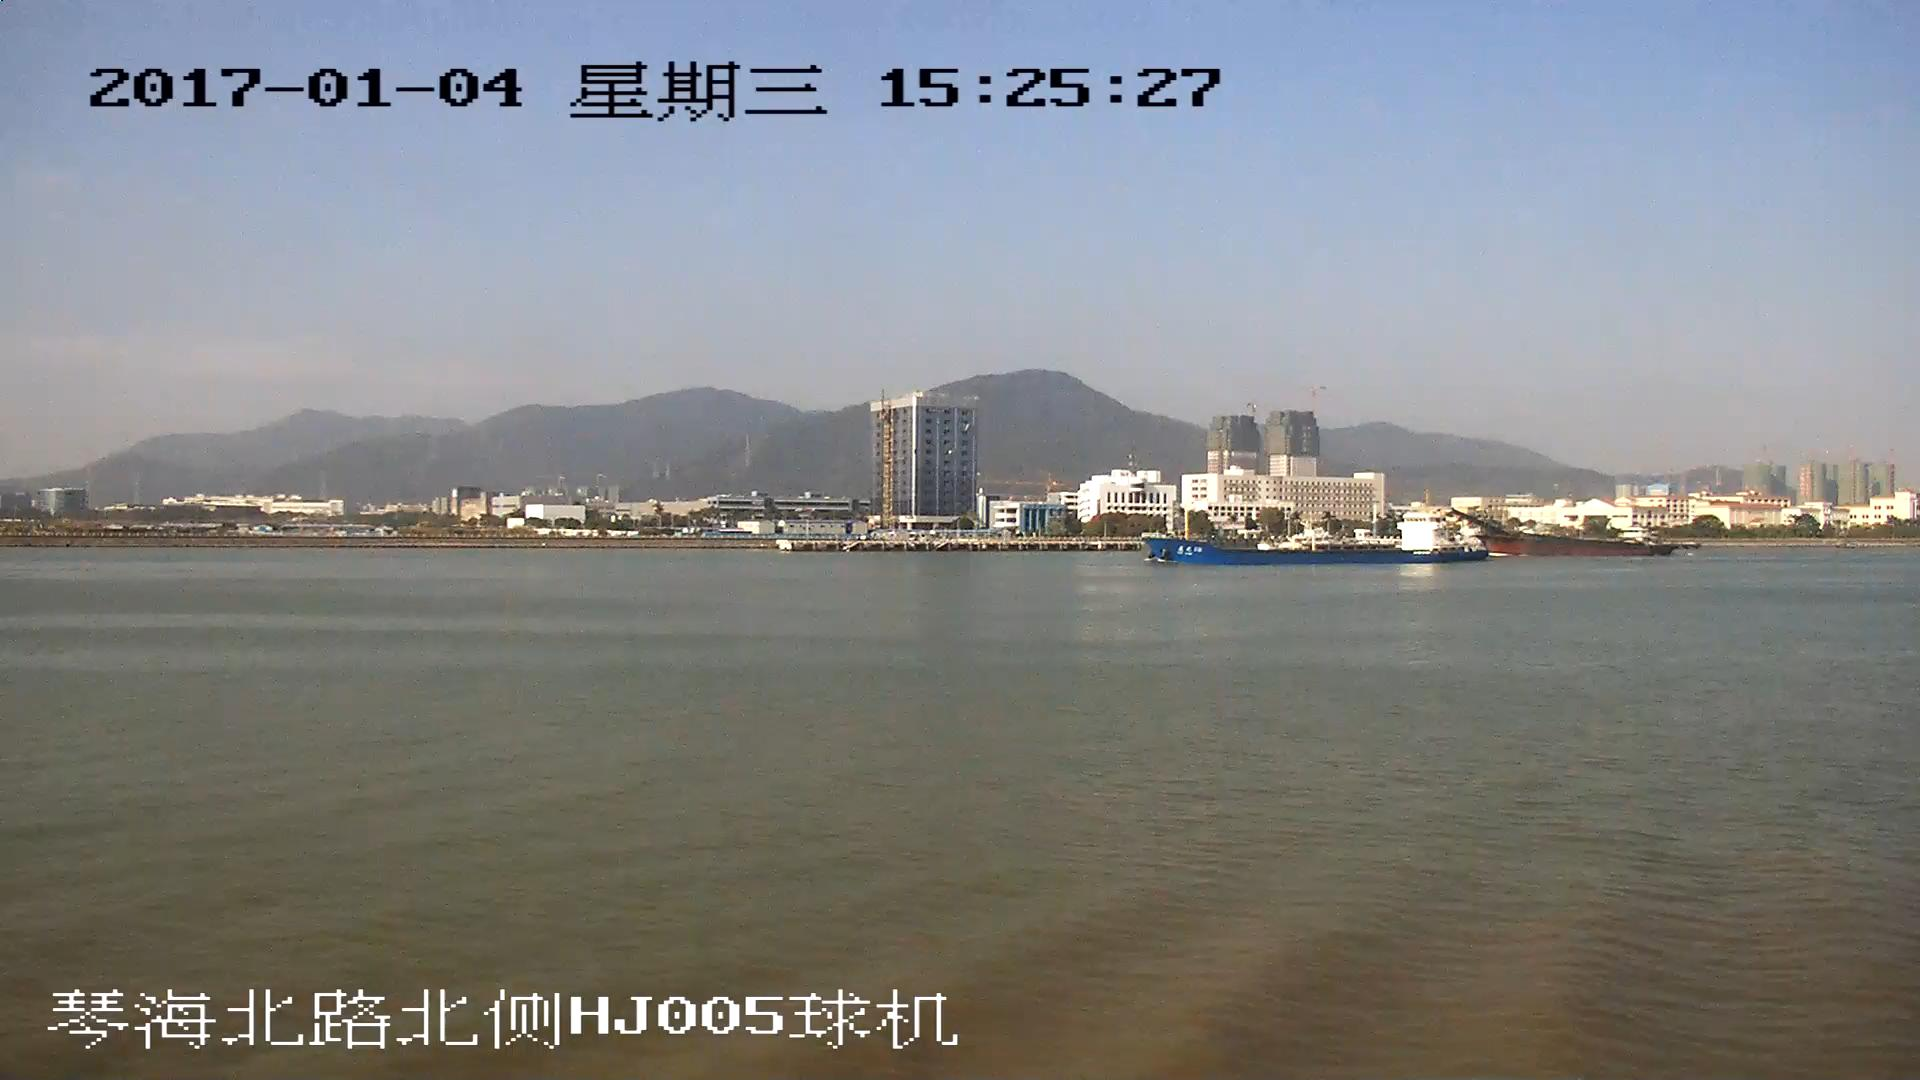bulk cargo carrier: (1456, 512, 1670, 558)
general cargo ship: (1149, 513, 1479, 563)
